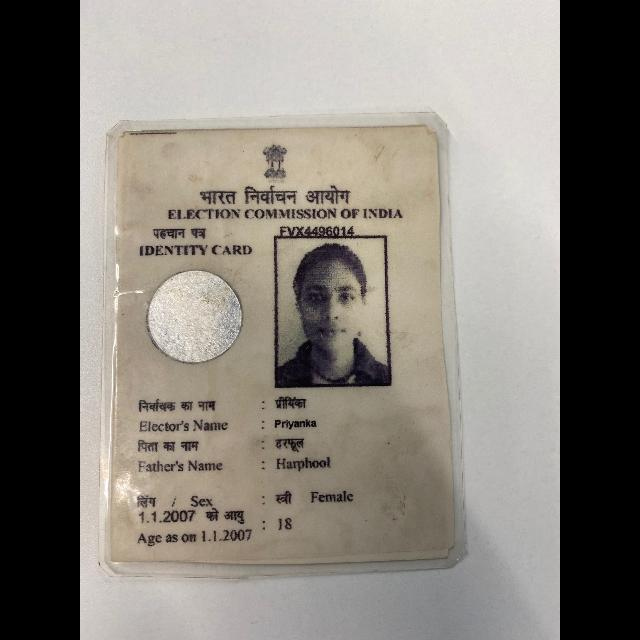voter_id: (97, 110, 476, 584)
